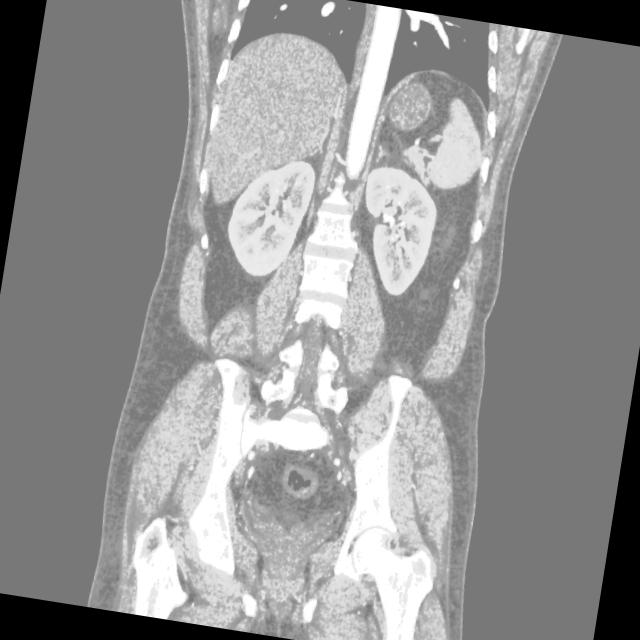NORMAL: (77, 22, 580, 586)
